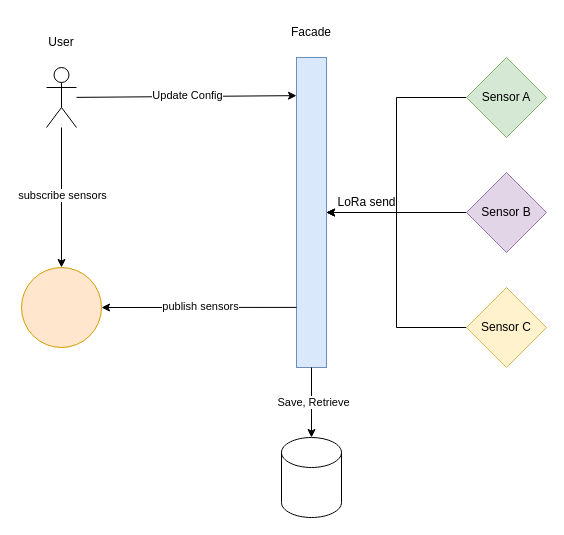
This 564x535 diagram has some shape labels left out. Here are the shapes that lost their labels. From the top down, the box of each, then its label:
(20, 266, 102, 348): MQTT Broker
(280, 436, 342, 518): Sensor DB
